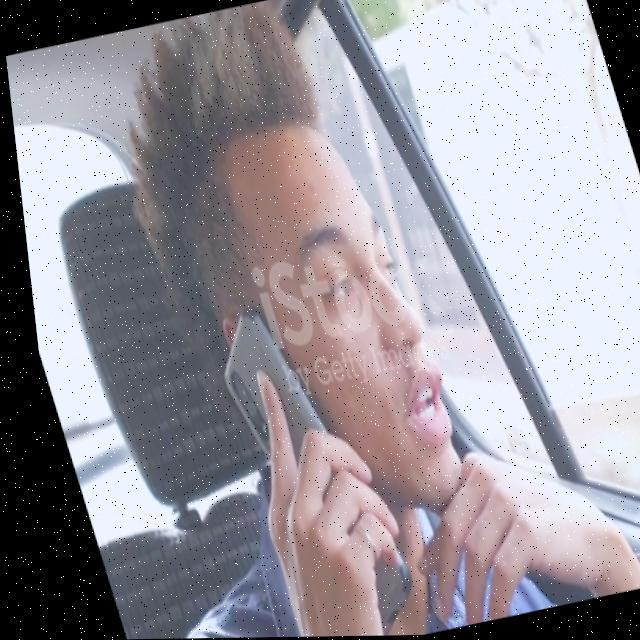PhoneCall: (193, 285, 414, 638)
